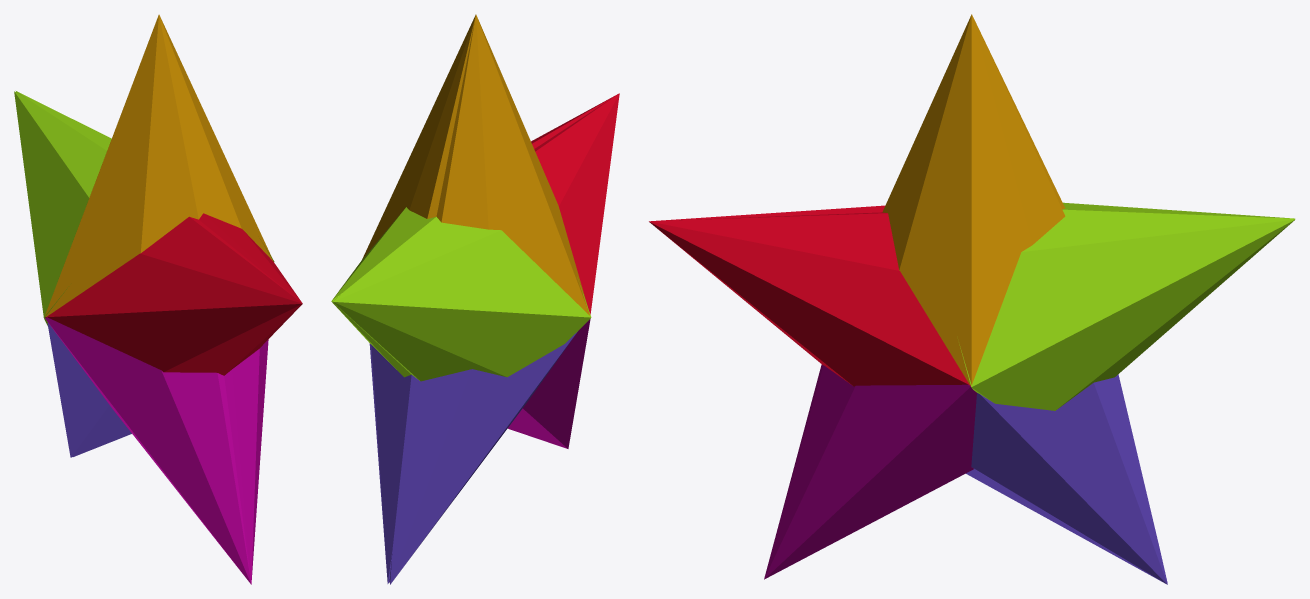
The model's file is Star.obj.
The picture shows the model from 3 angles, left to right: view 1: azimuth 30°, elevation 25°; view 2: azimuth 150°, elevation 25°; view 3: azimuth 270°, elevation 25°; orthographic projection. The views are drawn at different scales.
Visible parts, largest first — view 1: 円錐.003, 円錐.001, 円錐.004, 円錐.002, 円錐.005; view 2: 円錐.002, 円錐.001, 円錐.005, 円錐.003, 円錐.004; view 3: 円錐.002, 円錐.001, 円錐.003, 円錐.004, 円錐.005.
Part boxes in pixels (box(x1,y1,x2,y2)): 円錐.003: box(45, 213, 302, 375); 円錐.001: box(45, 14, 273, 316); 円錐.004: box(45, 317, 268, 584); 円錐.002: box(14, 91, 274, 325); 円錐.005: box(47, 323, 131, 457); 円錐.002: box(331, 207, 591, 381); 円錐.001: box(362, 14, 589, 315); 円錐.005: box(369, 331, 577, 584); 円錐.003: box(531, 93, 619, 314); 円錐.004: box(508, 319, 590, 448); 円錐.002: box(959, 202, 1295, 410); 円錐.001: box(882, 14, 1065, 385); 円錐.003: box(649, 205, 970, 386); 円錐.004: box(764, 364, 976, 579); 円錐.005: box(966, 374, 1167, 584).
Bounding box in the file's own units: 0.4528 × 0.9515 × 0.9788.
